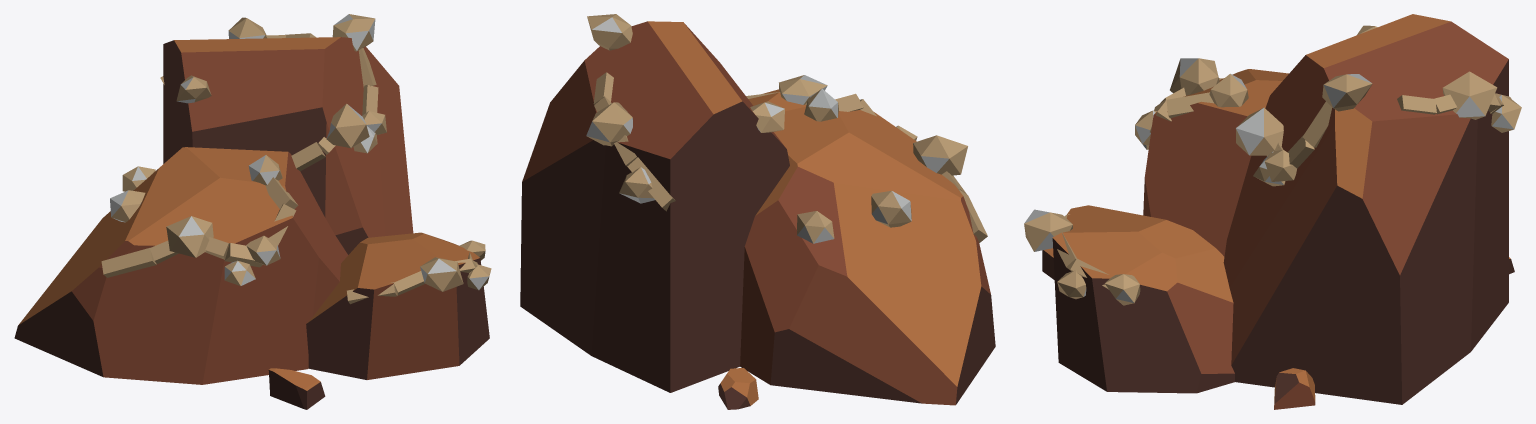
The model's file is ore_iron_b.fbx.
3 renders of one model, left to right at view 1: azimuth 30°, elevation 25°; view 2: azimuth 150°, elevation 25°; view 3: azimuth 270°, elevation 25°, orthographic. The views are drawn at different scales.
Visible parts, largest first — view 1: ore_iron_b; view 2: ore_iron_b; view 3: ore_iron_b.
Part boxes in pixels (x1=…): ore_iron_b: x1=14, y1=14, x2=491, y2=409; ore_iron_b: x1=520, y1=14, x2=995, y2=409; ore_iron_b: x1=1024, y1=14, x2=1521, y2=409.
Size of the model in its own units: 1.48 by 0.9226 by 1.4.
